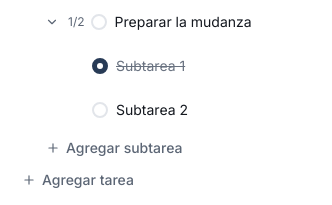
Test: TaskList — contador de subtareas directas (D-A/D-B/D-C/D-D) › el contador sigue visible tanto desplegada (default) como plegada
Expected: the text "1/2" is shown, [68, 14, 84, 30]
Click the button named "Ocultar 2 subtareas de Preparar la mudanza, 1 completadas" at (52, 22), box [42, 12, 62, 32]
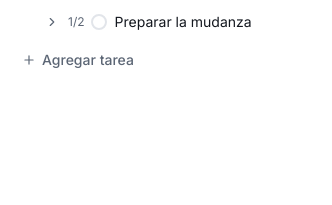
Expected: the text "1/2" is shown, [68, 14, 84, 30]
Result: the button named "Mostrar 2 subtareas de Preparar la mudanza, 1 completadas" is shown at [42, 12, 62, 32]
